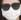with_mask: (1, 2, 21, 20)
